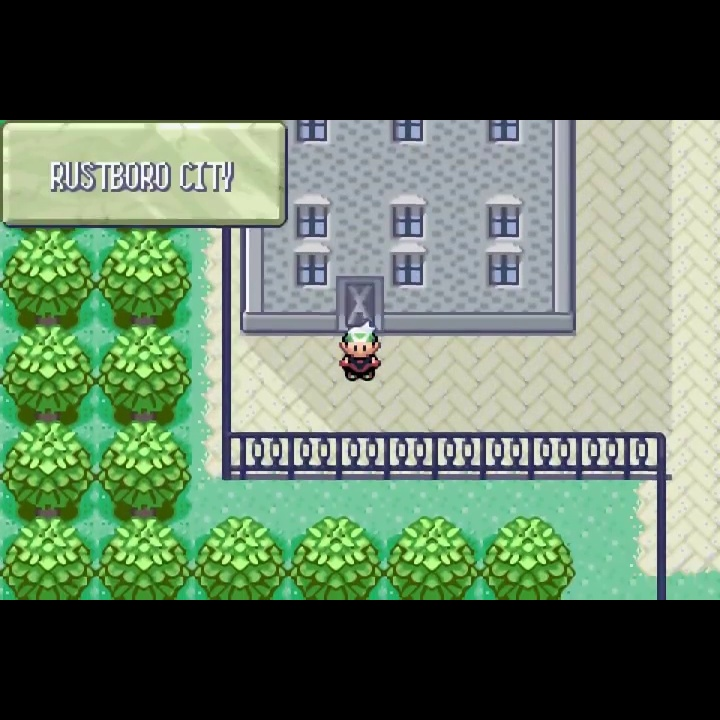house: (239, 120, 580, 338)
npc: (336, 318, 385, 384)
wall: (97, 226, 194, 326), (1, 325, 98, 424), (97, 325, 193, 424), (1, 226, 97, 325), (96, 423, 194, 519), (1, 423, 96, 517), (192, 514, 290, 600), (289, 515, 386, 600), (96, 516, 194, 600), (385, 515, 480, 600), (480, 516, 575, 600), (1, 516, 96, 600)
